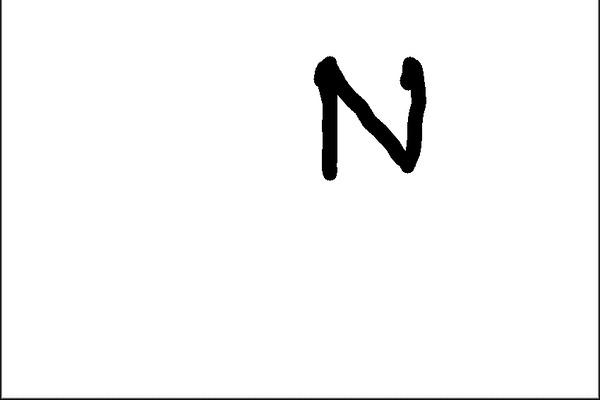N: (305, 50, 436, 185)
